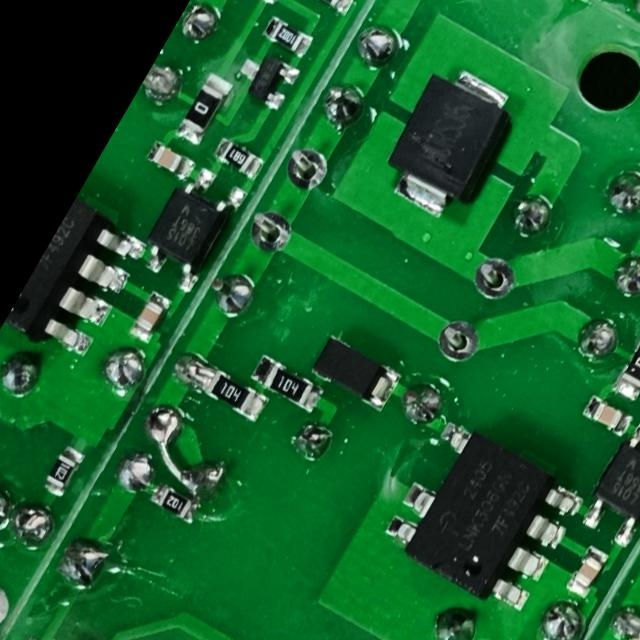chip-capacitor: (125, 287, 175, 346), (562, 542, 611, 602), (578, 392, 634, 440), (143, 138, 198, 184)
chip-resistor: (245, 350, 327, 416), (171, 67, 237, 149), (200, 366, 272, 425), (37, 442, 87, 502), (257, 11, 316, 61), (209, 133, 268, 183), (144, 477, 202, 527)
diode: (368, 54, 528, 231), (305, 331, 404, 416)
ic: (375, 415, 588, 622), (2, 197, 153, 370), (132, 158, 252, 297), (574, 416, 640, 554)
transistor: (228, 43, 302, 115)
